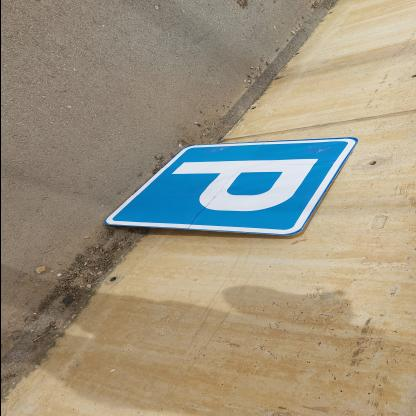Parking-Sign: (102, 138, 360, 237)
